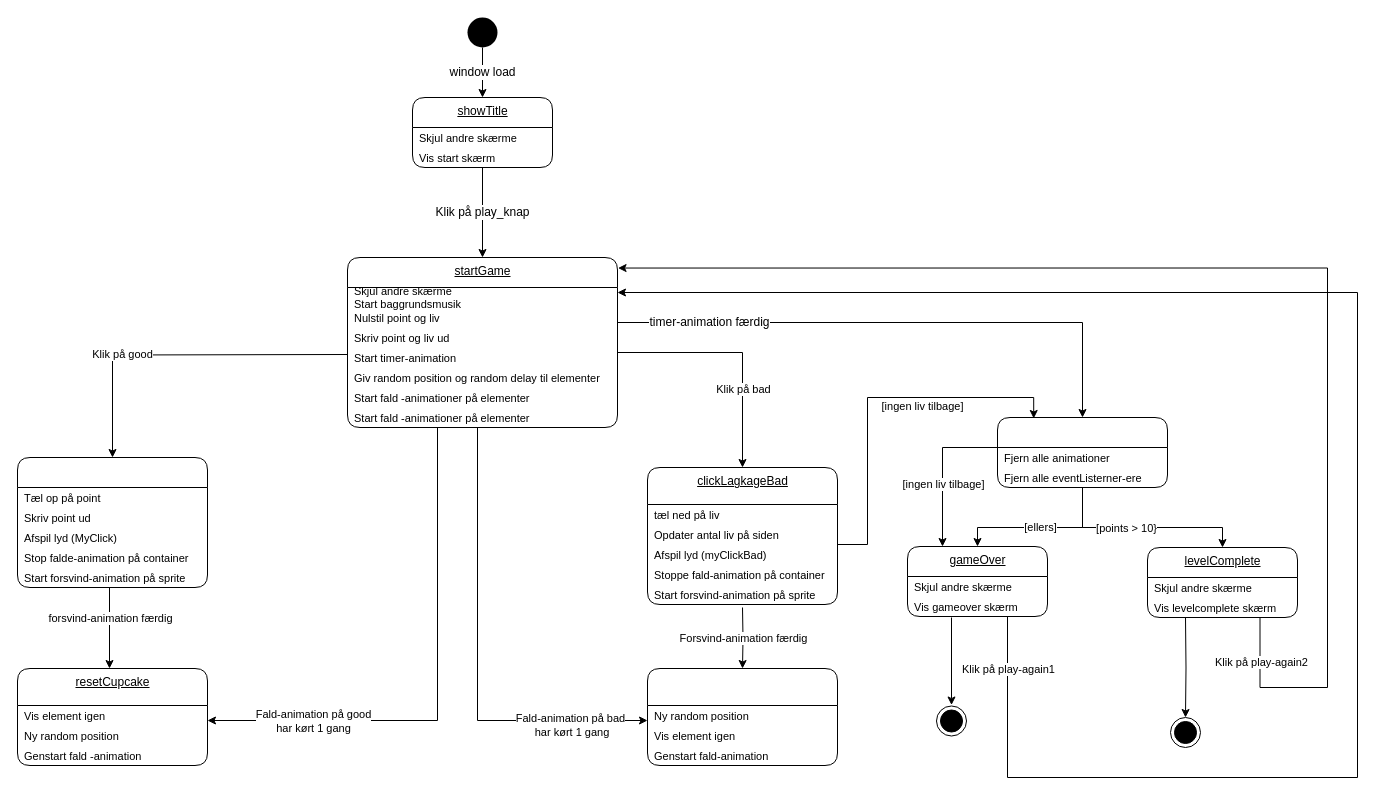
Image size: 1383x803. Some labels were removed from this diagram. The shapes that lost their labels are listed below. From the top down, each one's box as (x1, y1, x2, y2) in pixels, then its label:
(996, 416, 1168, 488): endGame
(16, 456, 208, 588): clickCupcake
(646, 668, 838, 766): ResetLagkageBad
